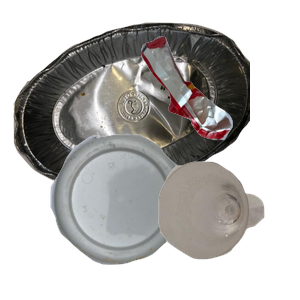glass: (156, 159, 300, 300)
metal: (11, 20, 251, 200)
plastic: (48, 132, 224, 300)
trash: (139, 34, 300, 167)
